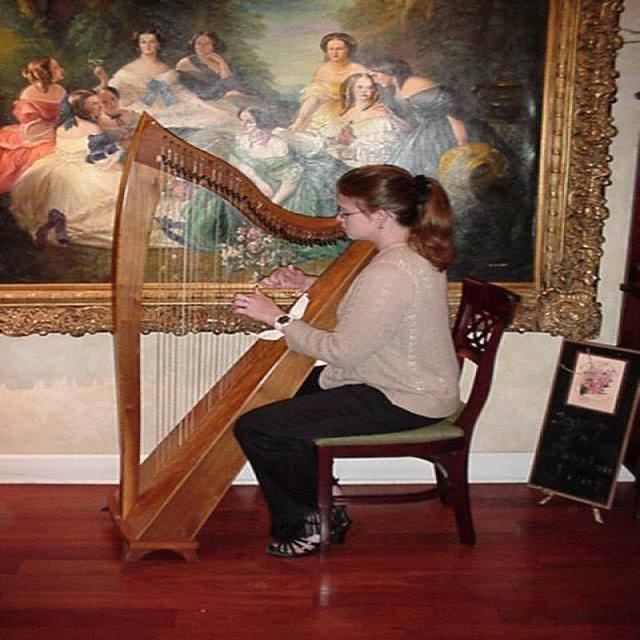harp: (110, 112, 388, 568)
